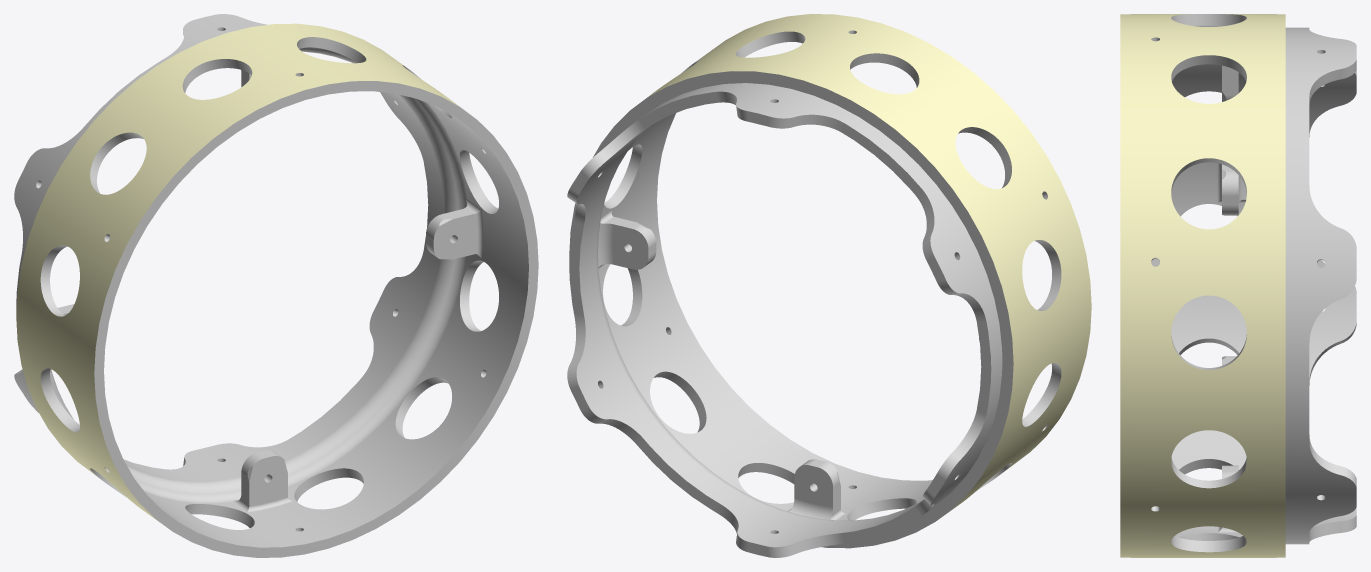
3 renders of one model, left to right at view 1: azimuth 30°, elevation 25°; view 2: azimuth 150°, elevation 25°; view 3: azimuth 270°, elevation 25°, orthographic. The views are drawn at different scales.
Parts seen in each view (by area): view 1: Part 1 (×24); view 2: Part 1 (×26); view 3: Part 1 (×21).
Boxes of the visible parts, x1,y1,x2,y2 form: Part 1 (×24): [14, 14, 538, 557]; Part 1 (×26): [569, 14, 1091, 548]; Part 1 (×21): [1120, 14, 1356, 557].
Bounding box in the file's own units: 0.115 × 0.115 × 0.05.
